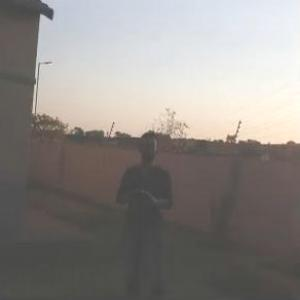follow: (105, 122, 178, 298)
